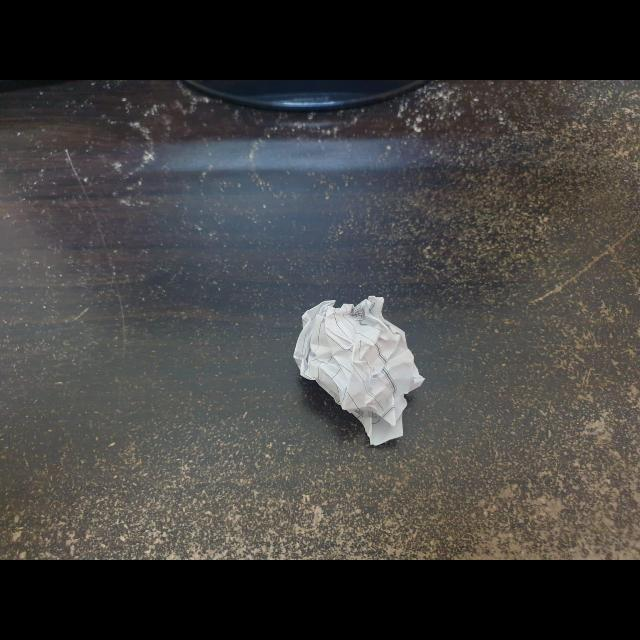scrap_paper: (284, 292, 428, 448)
